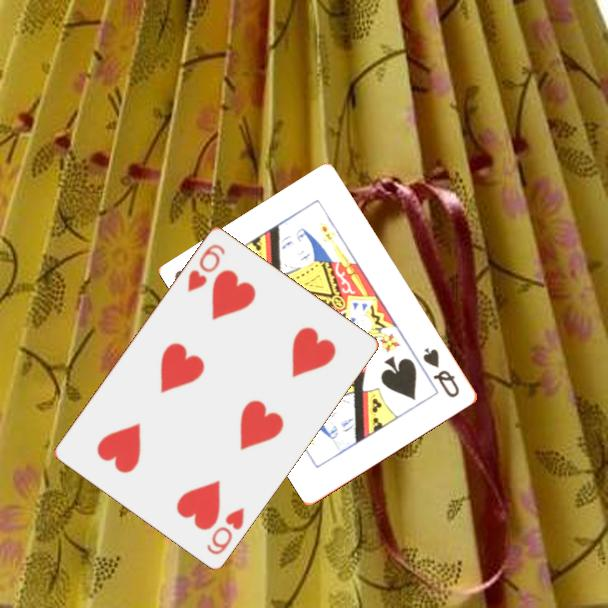h06: (184, 240, 228, 295), (203, 503, 247, 557)
s12: (420, 344, 463, 401)
